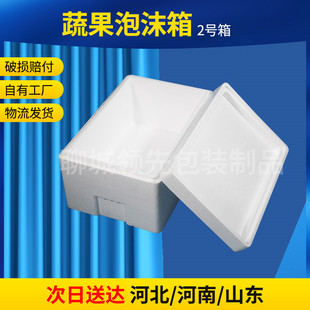Boxes: (60, 76, 288, 250)
